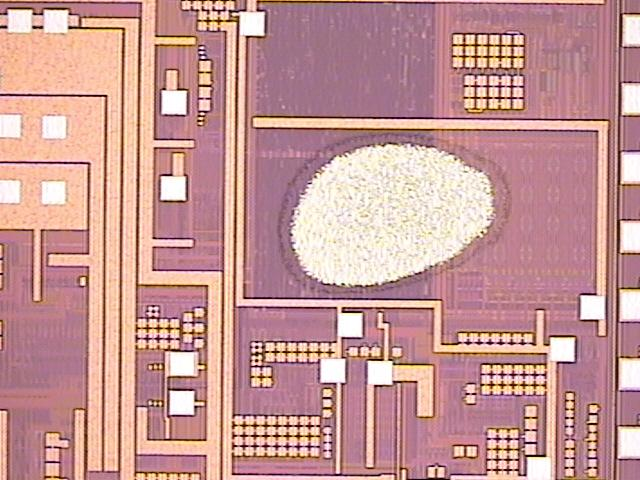BLOCK ETCH: (270, 124, 517, 309)
